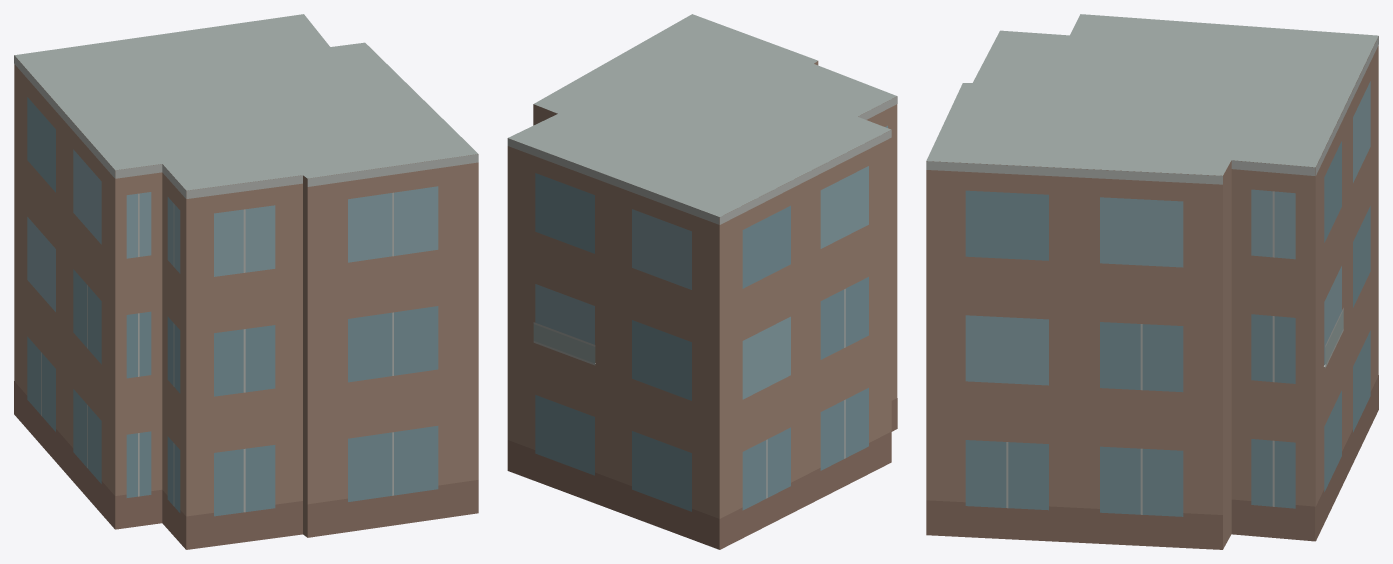
File: survey-upis-32503593.glb
3 views of the same model, side by side, from view 1: azimuth 30°, elevation 25°; view 2: azimuth 150°, elevation 25°; view 3: azimuth 270°, elevation 25° (orthographic). The views are drawn at different scales.
Parts seen in each view (by area): view 1: survey-upis-32503593.tmp; view 2: survey-upis-32503593.tmp; view 3: survey-upis-32503593.tmp.
Part boxes in pixels (left/top/right/bottom): survey-upis-32503593.tmp: left=14, top=14, right=478, bottom=549; survey-upis-32503593.tmp: left=507, top=14, right=897, bottom=549; survey-upis-32503593.tmp: left=926, top=14, right=1378, bottom=549.
Bounding box in the file's own units: 9.56 × 10.3 × 11.31.
